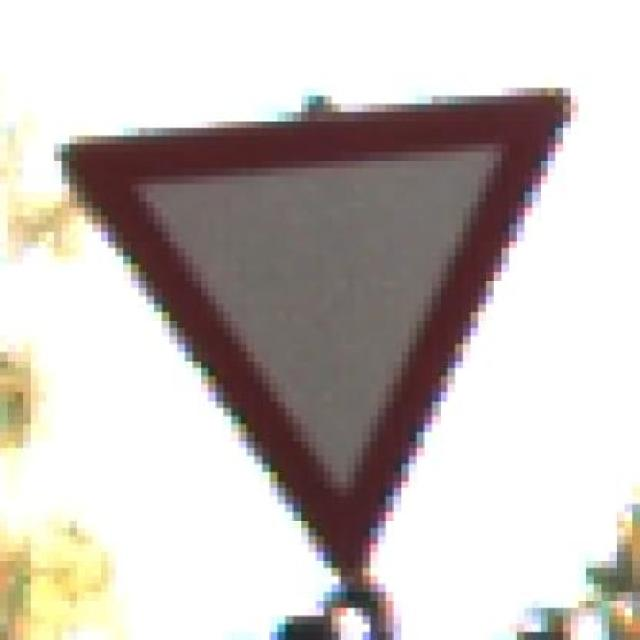Give Way: (43, 73, 606, 593)
